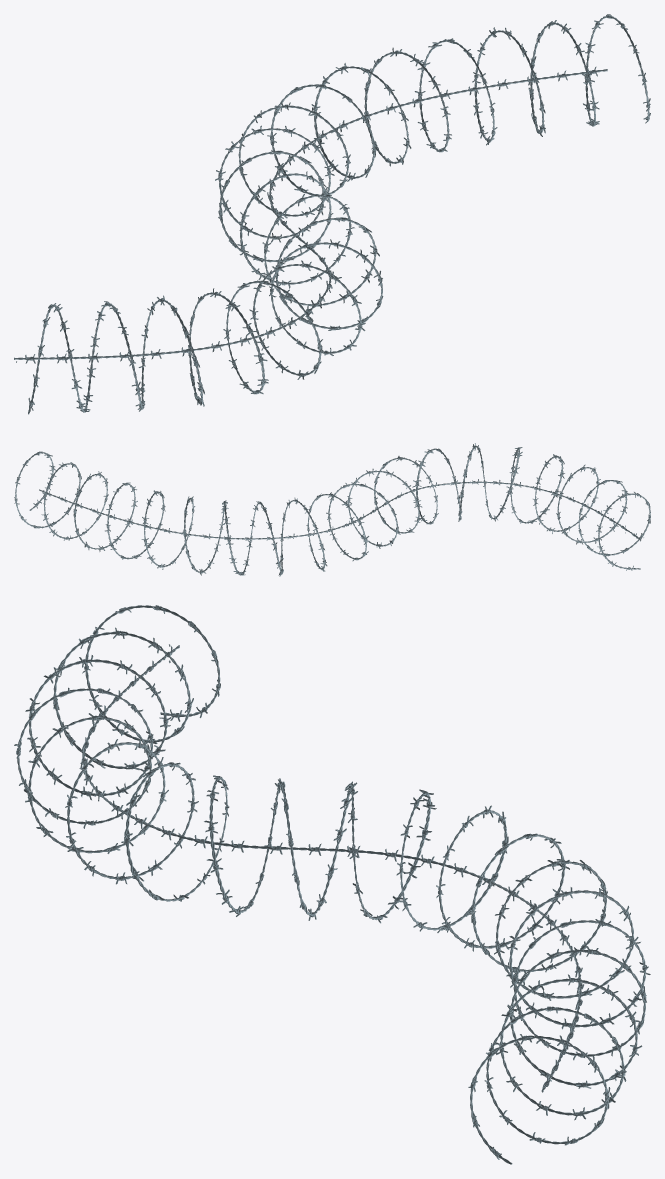
Rendered from barbed-wire-model.glb.
3 views of the same model, one above another, from view 1: azimuth 30°, elevation 25°; view 2: azimuth 150°, elevation 25°; view 3: azimuth 270°, elevation 25° (orthographic). The views are drawn at different scales.
Parts seen in each view (by area): view 1: Node3, Node4; view 2: Node3, Node4; view 3: Node3, Node4.
Boxes of the visible parts, box(x1,y1,x2,y2) form: Node3: box(28, 14, 650, 414); Node4: box(14, 66, 607, 363); Node3: box(14, 443, 650, 576); Node4: box(39, 479, 640, 540); Node3: box(14, 605, 650, 1164); Node4: box(80, 645, 584, 1092).
Size of the model in its own units: 3.26 by 0.4292 by 1.9.
